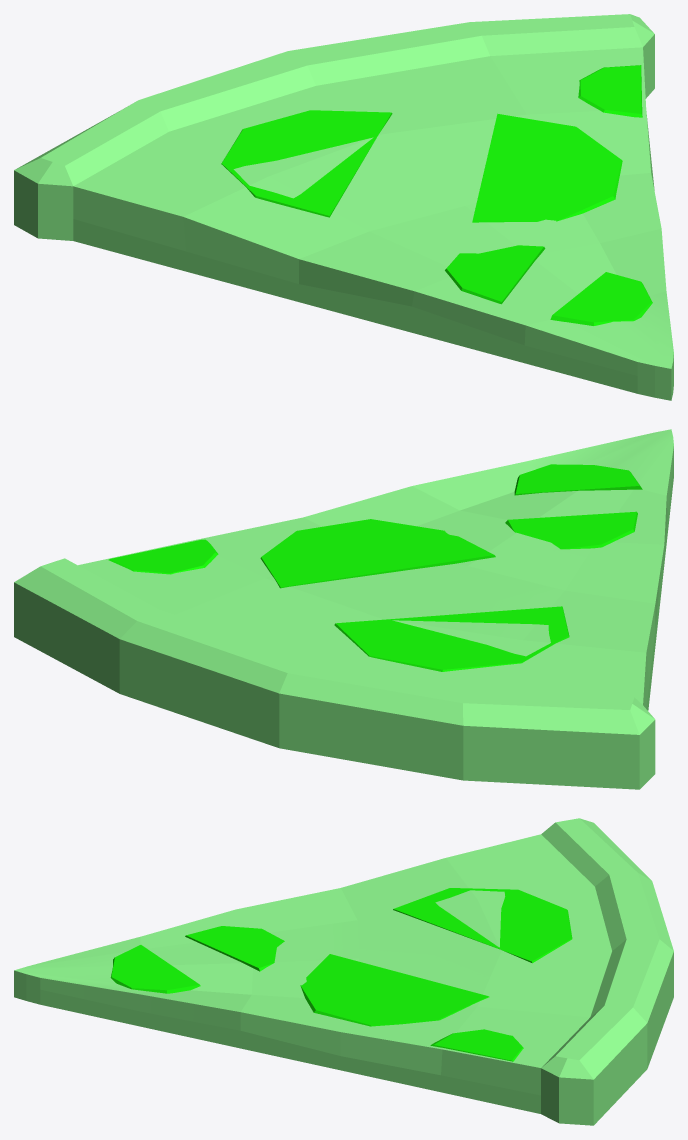
Rendered from GreenSlice.fbx.
3 renders of one model, top to bottom at view 1: azimuth 30°, elevation 25°; view 2: azimuth 150°, elevation 25°; view 3: azimuth 270°, elevation 25°, orthographic. The views are drawn at different scales.
Visible parts, largest first — view 1: Pizza_Slice; view 2: Pizza_Slice; view 3: Pizza_Slice.
Part boxes in pixels (x1=…): Pizza_Slice: x1=14, y1=14, x2=673, y2=400; Pizza_Slice: x1=14, y1=429, x2=673, y2=789; Pizza_Slice: x1=14, y1=818, x2=673, y2=1125.
Bounding box in the file's own units: 107 × 11.28 × 116.
